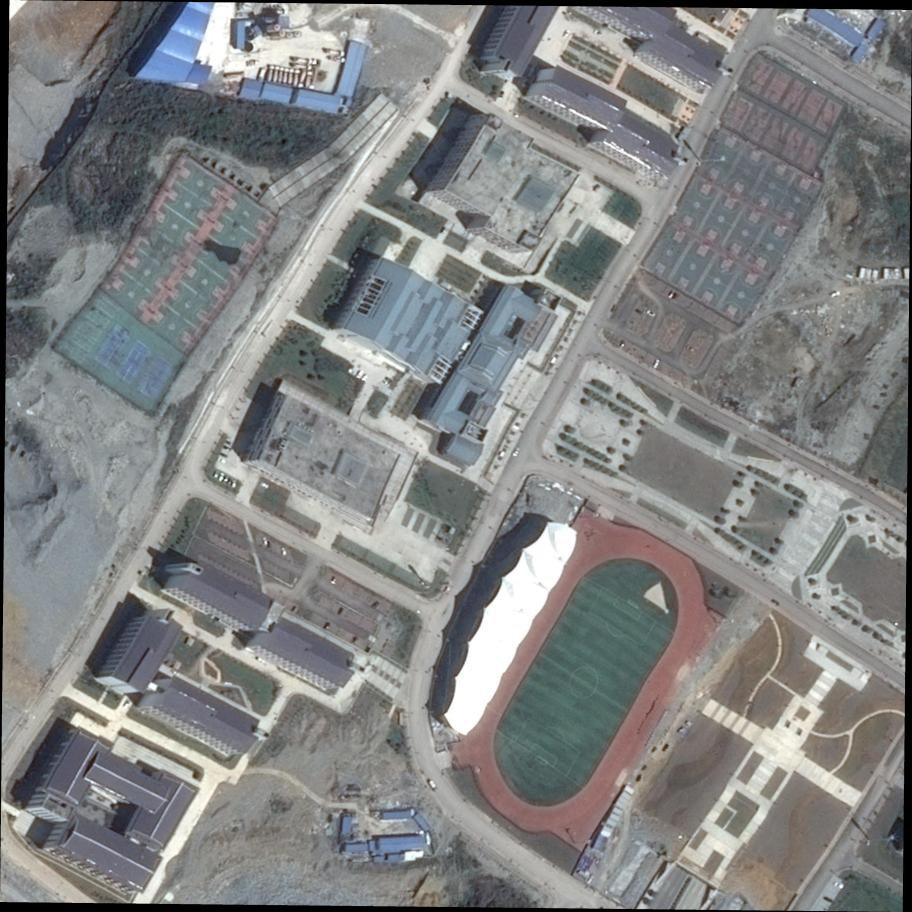small-vehicle: (645, 307, 658, 318), (828, 290, 841, 300), (651, 358, 661, 370), (833, 880, 845, 890), (428, 778, 438, 790), (511, 447, 521, 459), (561, 29, 571, 40), (280, 547, 289, 559), (261, 536, 270, 548), (634, 772, 643, 783), (259, 481, 270, 490), (370, 600, 380, 609), (360, 372, 369, 382), (355, 369, 364, 379), (662, 743, 670, 753), (336, 605, 344, 615), (219, 452, 228, 460), (218, 472, 225, 482), (221, 444, 231, 451), (212, 470, 219, 479), (232, 480, 237, 490)
